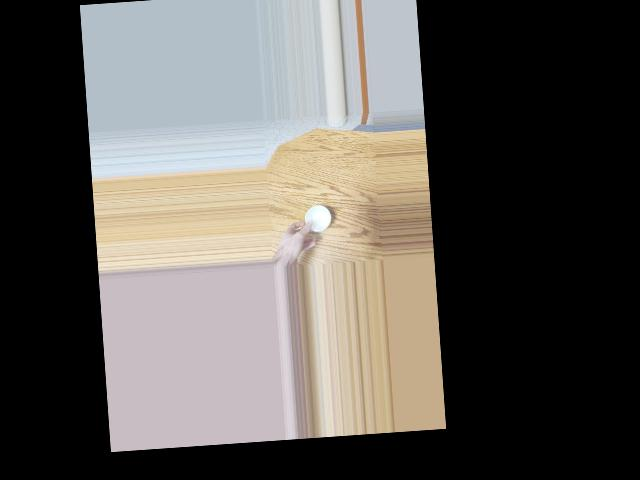cotage: (303, 207, 328, 233)
